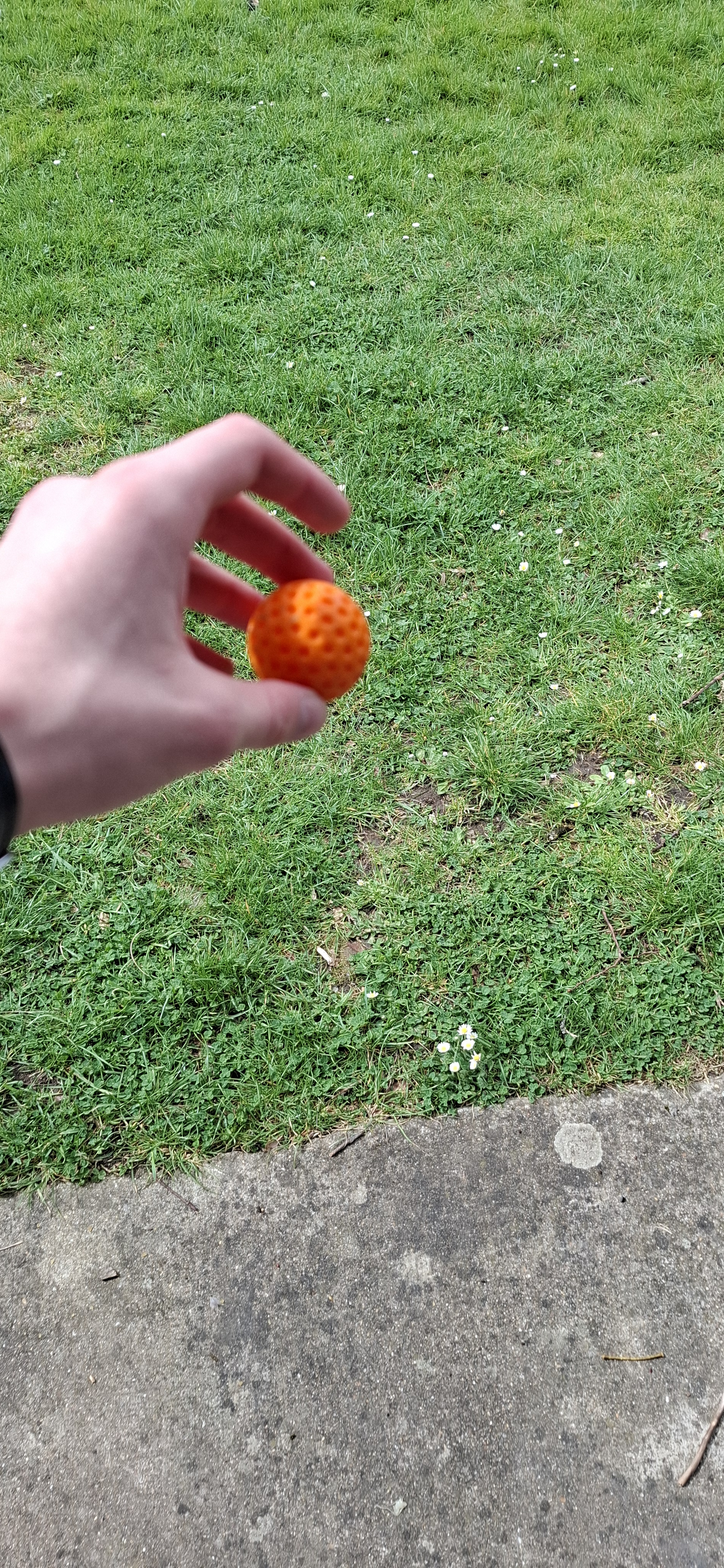ball: (267, 767, 325, 1043)
